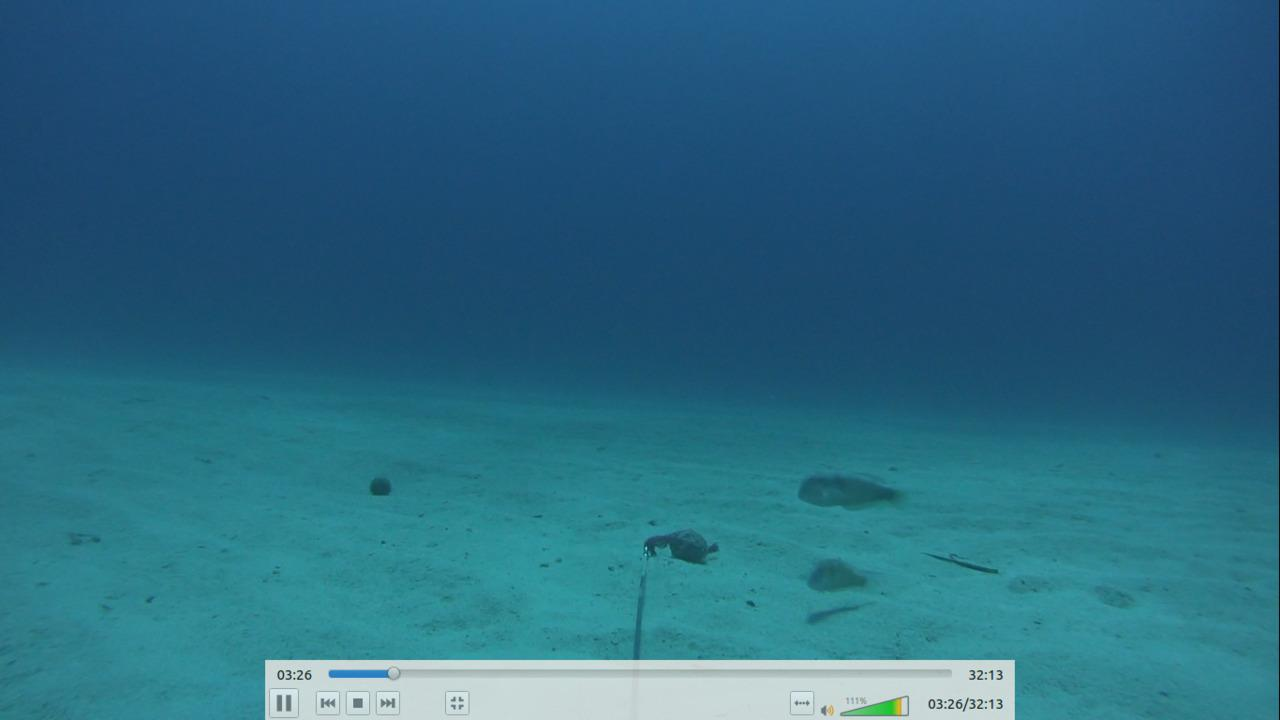raor: (794, 469, 911, 515), (804, 551, 869, 593)
